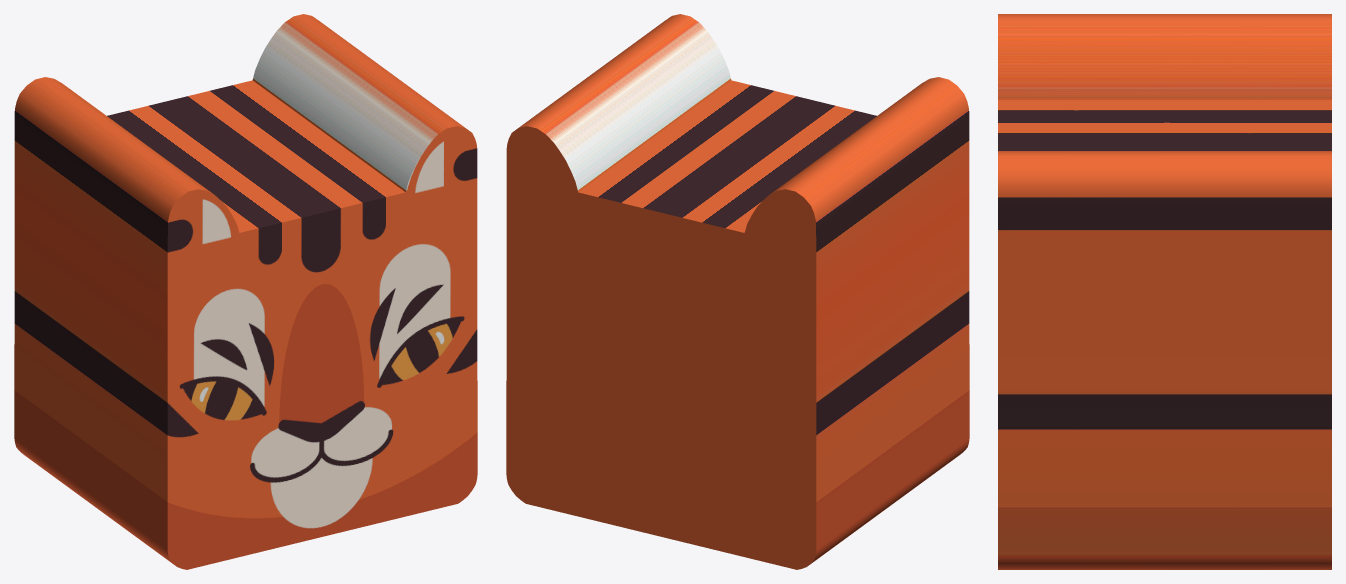
Rendered from Tiger.fbx.
The picture shows the model from 3 angles, left to right: view 1: azimuth 30°, elevation 25°; view 2: azimuth 150°, elevation 25°; view 3: azimuth 270°, elevation 25°; orthographic projection. The views are drawn at different scales.
Parts seen in each view (by area): view 1: Tiger; view 2: Tiger; view 3: Tiger.
Part boxes in pixels (<box>): Tiger: <box>14,14,477,569</box>; Tiger: <box>506,14,969,569</box>; Tiger: <box>998,14,1331,569</box>.
Bounding box in the file's own units: 5.36 × 6.24 × 4.59.
Materials: 1 (1 with a texture image).
